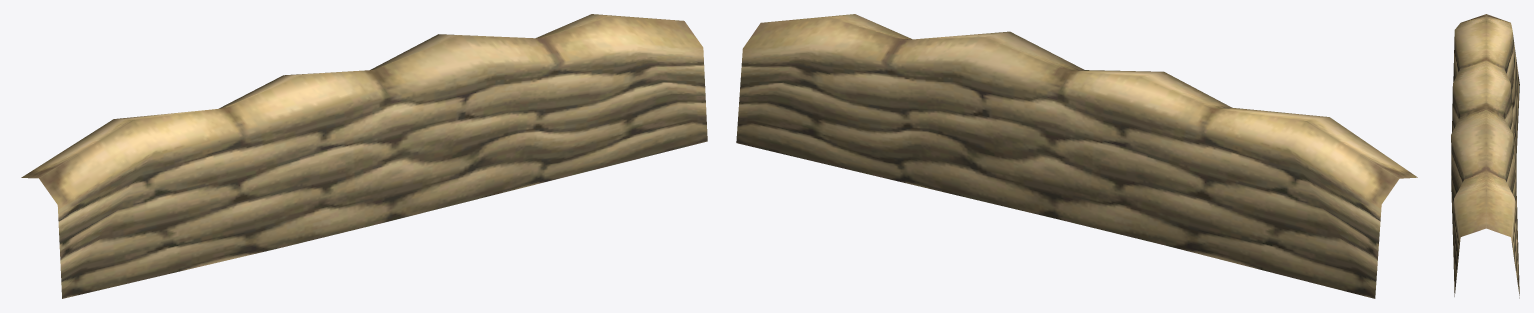
Rendered from Sandbags2_Med_Straight.glb.
The picture shows the model from 3 angles, left to right: view 1: azimuth 30°, elevation 25°; view 2: azimuth 150°, elevation 25°; view 3: azimuth 270°, elevation 25°; orthographic projection. The views are drawn at different scales.
Visible parts, largest first — view 1: SANDBAGS2_MED_STRAIGHT; view 2: SANDBAGS2_MED_STRAIGHT; view 3: SANDBAGS2_MED_STRAIGHT.
Boxes of the visible parts, left/top/right/bottom form: SANDBAGS2_MED_STRAIGHT: left=21, top=14, right=707, bottom=298; SANDBAGS2_MED_STRAIGHT: left=736, top=14, right=1417, bottom=298; SANDBAGS2_MED_STRAIGHT: left=1451, top=14, right=1519, bottom=298.
Size of the model in its own units: 4 by 0.85 by 0.542.
1 material, 1 textured.
